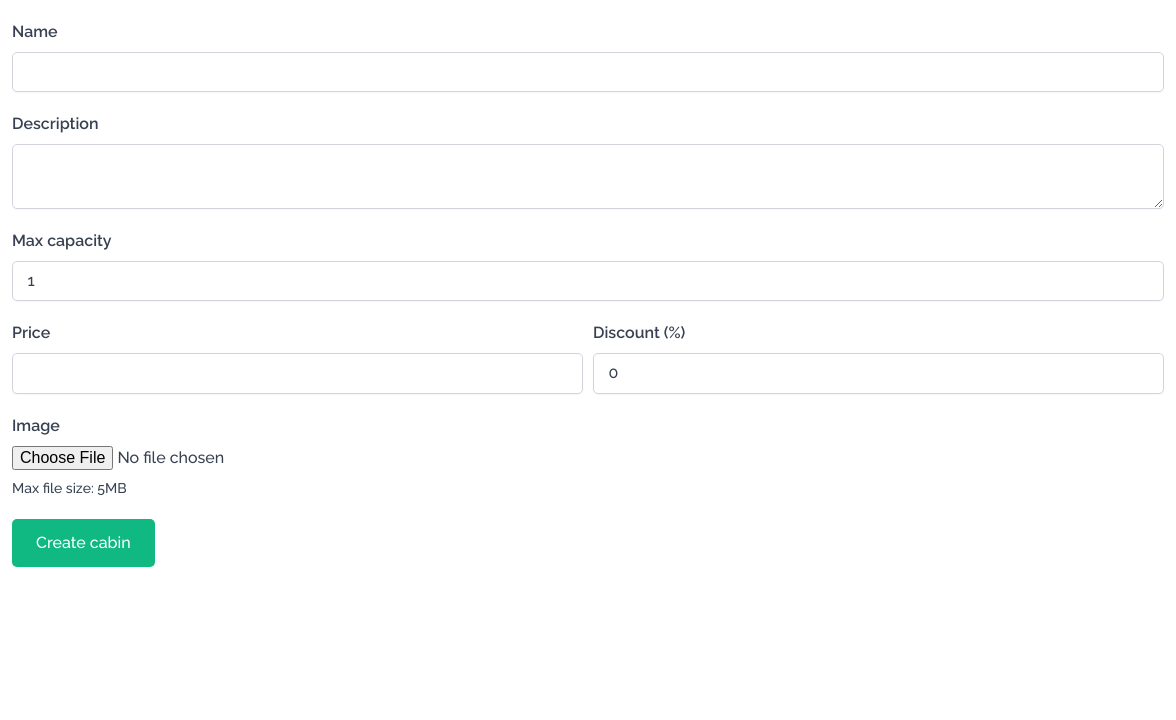
Test case: CreateCabinForm › should show an error message if max capacity value is less than 1
Clear the number field labelled "Max capacity" at {"x": 588, "y": 281}, box [12,261,1164,301]
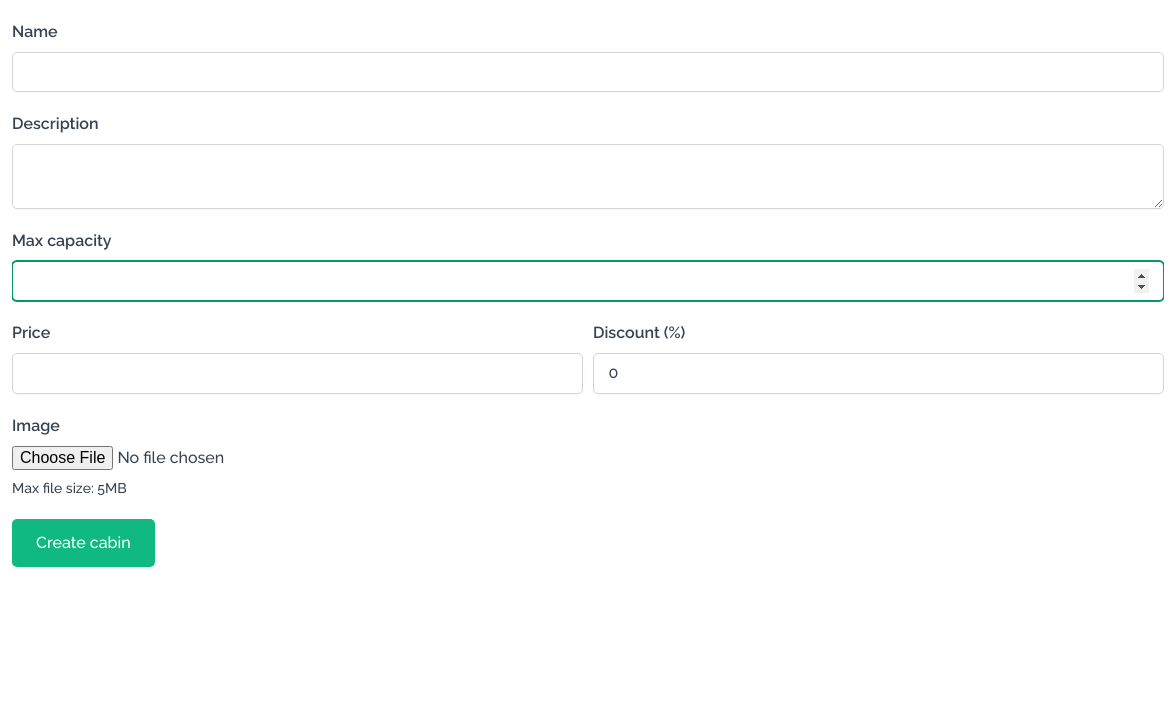
Click the button "Create cabin" at {"x": 83, "y": 542}, box [12,518,155,566]
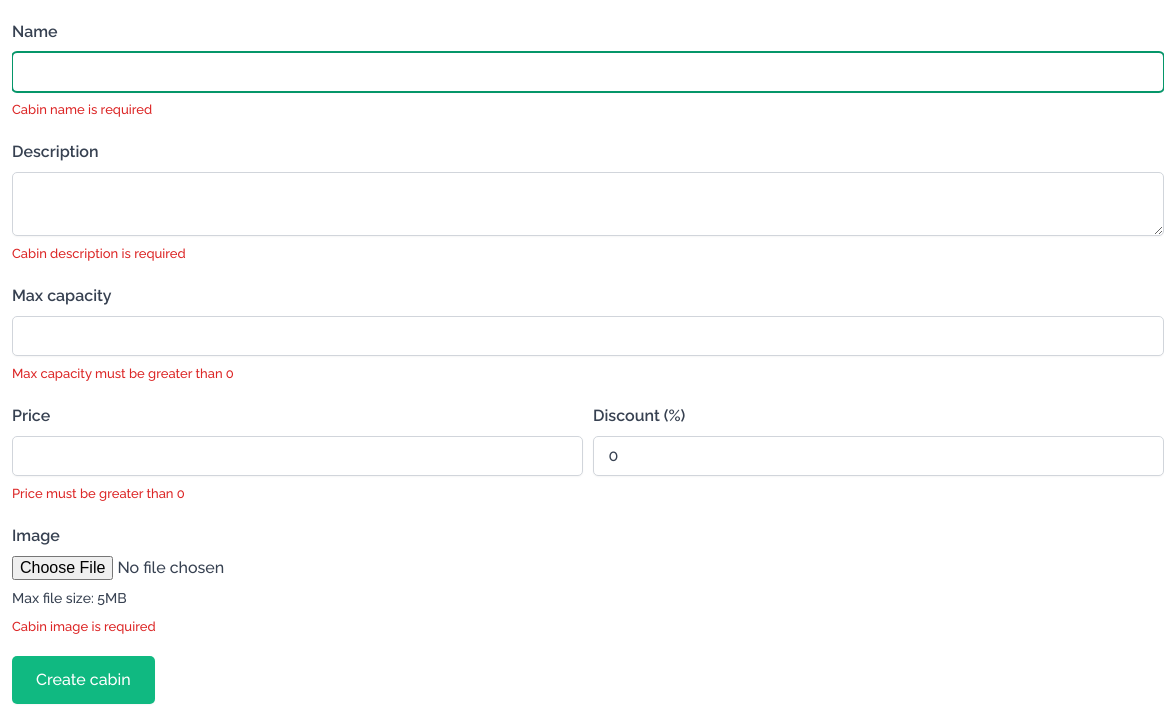
Now the text "Max capacity must be greater than 0" is shown, box [12,366,234,381]
